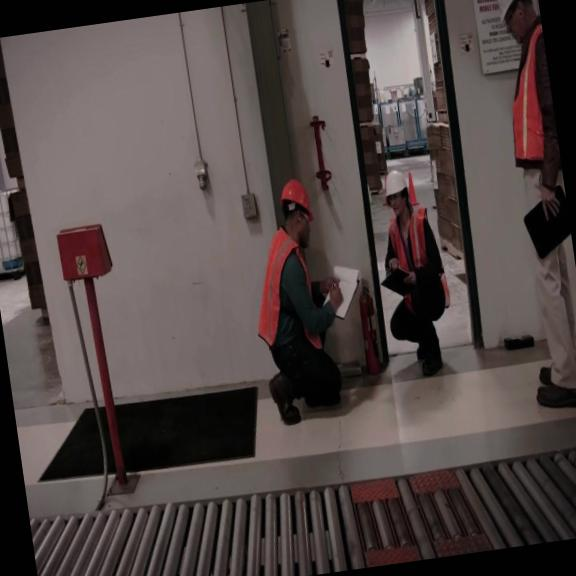safety_vest: (240, 221, 326, 362), (494, 15, 561, 171), (382, 200, 452, 314)
